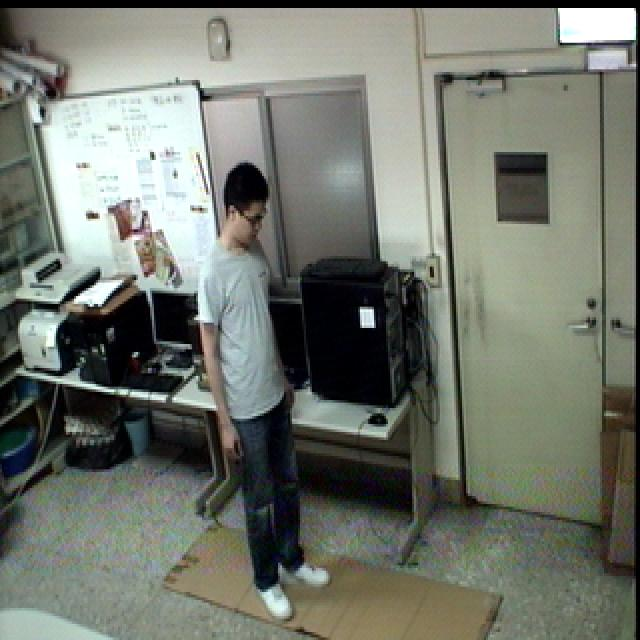stand: (197, 154, 336, 623)
